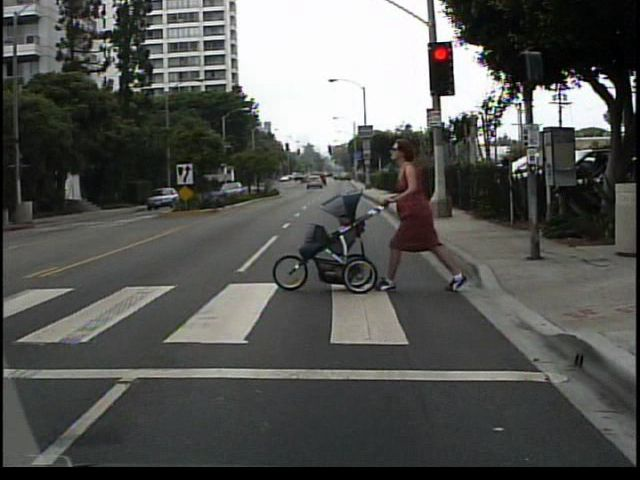person: (379, 133, 473, 296)
